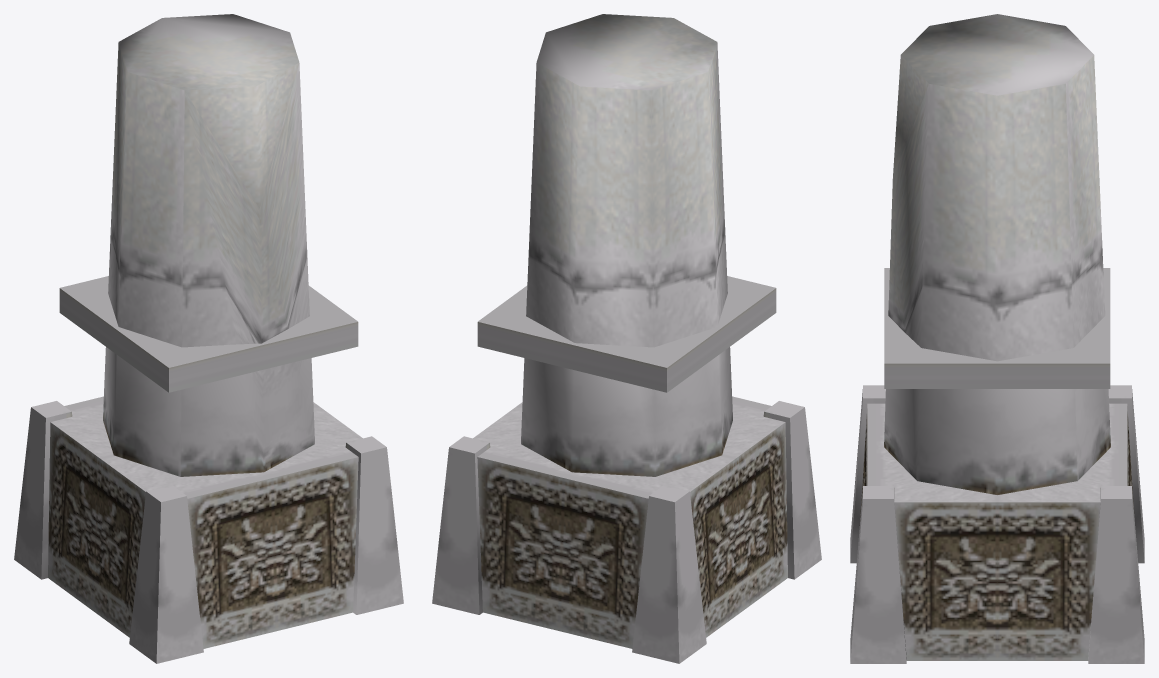
Rendered from general_obj_bigtower04_lod_01.glb.
3 views of the same model, side by side, from view 1: azimuth 30°, elevation 25°; view 2: azimuth 150°, elevation 25°; view 3: azimuth 270°, elevation 25° (orthographic). The views are drawn at different scales.
Parts seen in each view (by area): view 1: Sphere01; view 2: Sphere01; view 3: Sphere01.
Part boxes in pixels (x1,y1,x2,y2): Sphere01: (14, 14, 403, 663); Sphere01: (432, 14, 821, 663); Sphere01: (850, 14, 1144, 663).
Bounding box in the file's own units: 5.22 × 10.68 × 5.21.
1 material, 1 textured.
